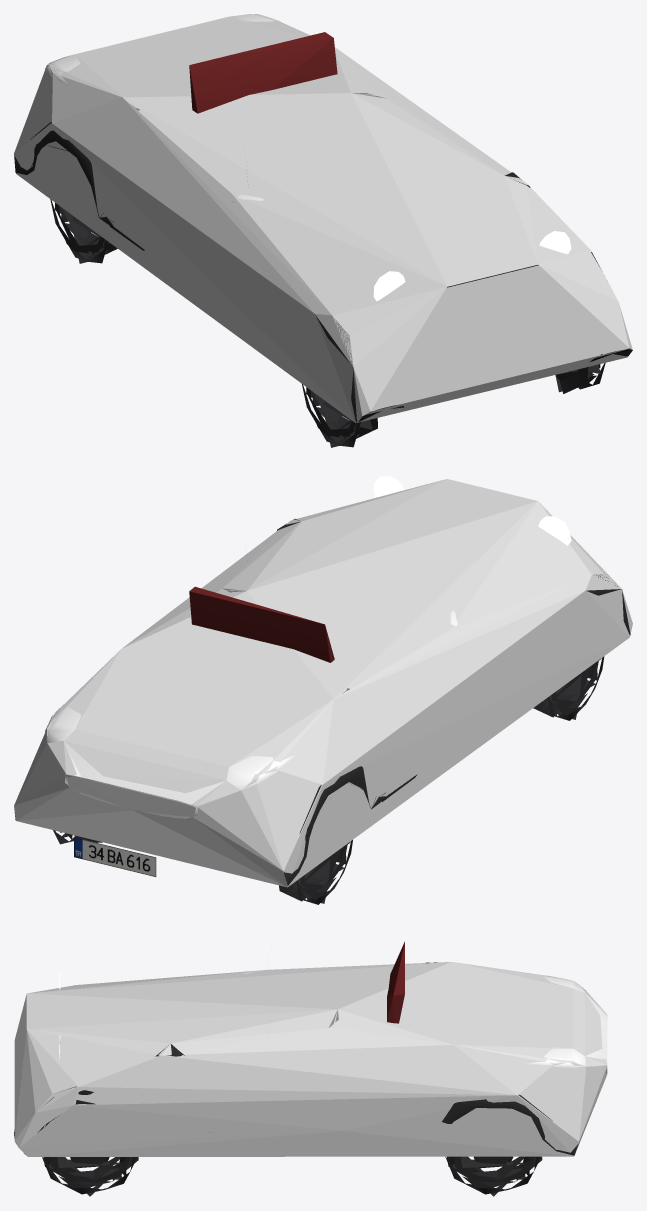
The model's file is bosfor_lale_lod2.glb.
3 views of the same model, one above another, from view 1: azimuth 30°, elevation 25°; view 2: azimuth 150°, elevation 25°; view 3: azimuth 270°, elevation 25° (orthographic). The views are drawn at different scales.
Parts seen in each view (by area): view 1: col_body, interior, trim, wheel_FR, wheel_RR, lights_front, wheel_FL, body; view 2: col_body, interior, body, wheel_RR, trim, wheel_FR, plate_rear, lights_front; view 3: col_body, wheel_RL, wheel_FL, trim, body, interior.
Part boxes in pixels (x1,y1,x2,y2): col_body: [14, 14, 632, 422]; interior: [189, 32, 337, 113]; trim: [14, 93, 632, 422]; wheel_FR: [302, 384, 377, 447]; wheel_RR: [50, 199, 117, 263]; lights_front: [373, 231, 571, 301]; wheel_FL: [555, 363, 605, 393]; body: [45, 14, 280, 202]; col_body: [14, 479, 632, 887]; interior: [189, 586, 334, 662]; body: [45, 610, 461, 818]; wheel_RR: [279, 840, 352, 904]; trim: [14, 519, 630, 885]; wheel_FR: [533, 656, 604, 720]; plate_rear: [74, 837, 156, 876]; lights_front: [373, 476, 571, 545]; col_body: [14, 962, 607, 1156]; wheel_RL: [445, 1156, 542, 1196]; wheel_FL: [42, 1157, 138, 1196]; trim: [14, 962, 578, 1155]; body: [242, 970, 607, 1073]; interior: [387, 941, 404, 1023].
Bounding box in the file's own units: 1.73 × 1.36 × 4.22.
Materials: 9 (1 with a texture image).
